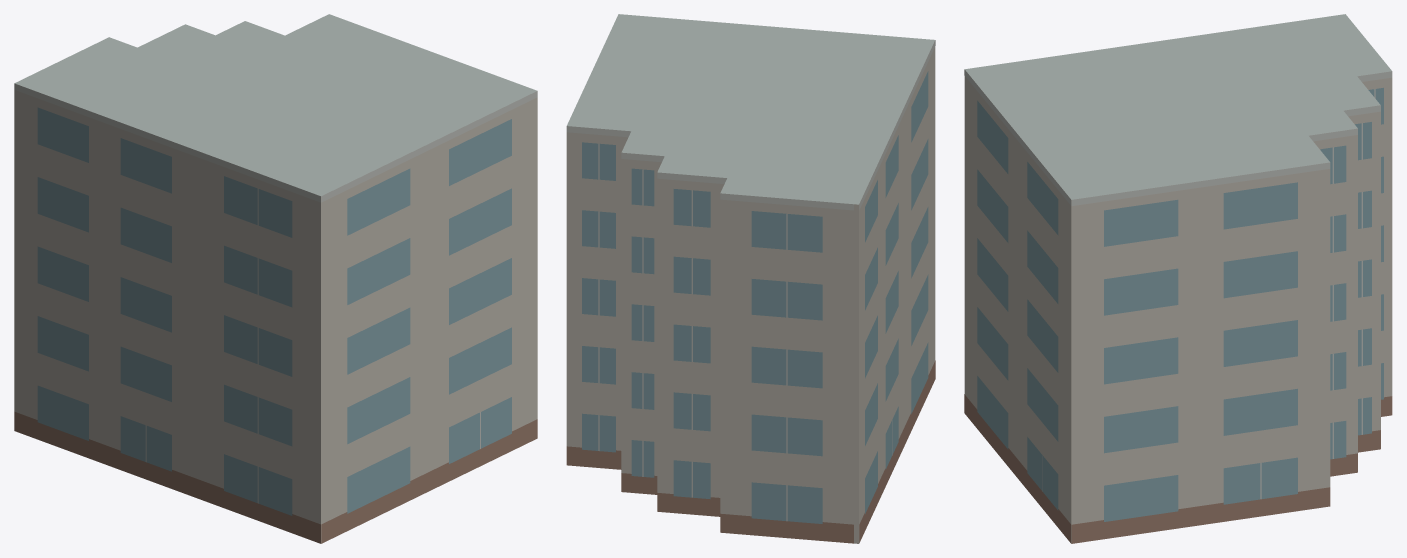
Rendered from survey-upis-33017457.glb.
The picture shows the model from 3 angles, left to right: view 1: azimuth 30°, elevation 25°; view 2: azimuth 150°, elevation 25°; view 3: azimuth 270°, elevation 25°; orthographic projection. The views are drawn at different scales.
Visible parts, largest first — view 1: survey-upis-33017457.tmp; view 2: survey-upis-33017457.tmp; view 3: survey-upis-33017457.tmp.
Part boxes in pixels (left/top/right/bottom): survey-upis-33017457.tmp: left=14, top=14, right=537, bottom=543; survey-upis-33017457.tmp: left=566, top=14, right=935, bottom=543; survey-upis-33017457.tmp: left=964, top=14, right=1392, bottom=543.
Bounding box in the file's own units: 15.31 × 13.2 × 14.89.
